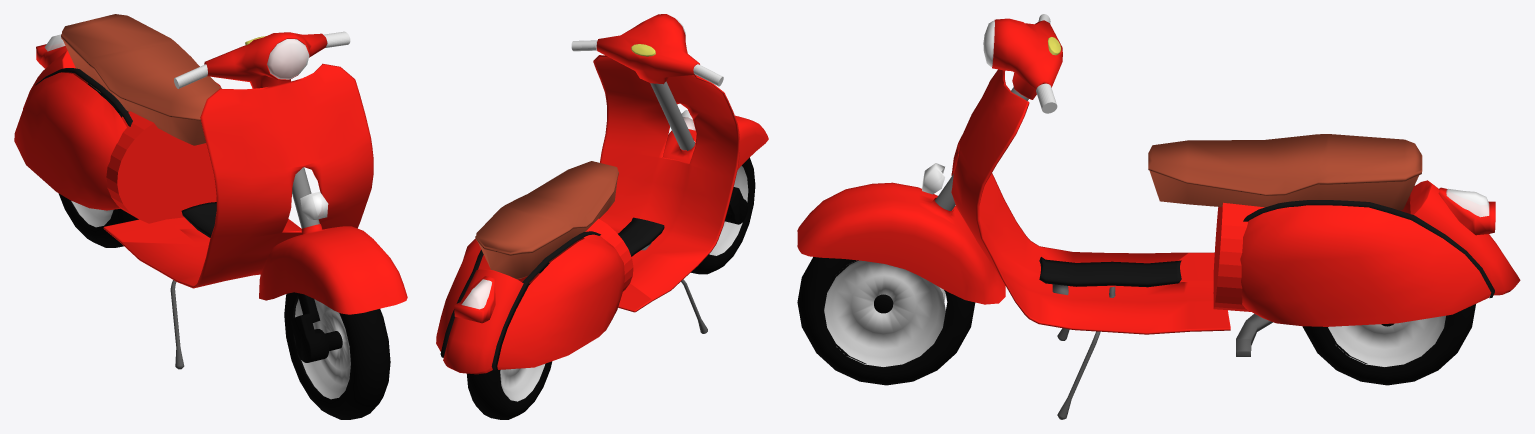
The model's file is vespa.fbx.
The picture shows the model from 3 angles, left to right: view 1: azimuth 30°, elevation 25°; view 2: azimuth 150°, elevation 25°; view 3: azimuth 270°, elevation 25°; orthographic projection. The views are drawn at different scales.
Parts seen in each view (by area): view 1: CARENAGEM_FRENTE_LOW_Plane.001, ASSENTO_LOW_Plane.001, CARENAGEM_LATERAL_LOW_Plane.001, PARALAMA_LOW_Plane.003, Cilindro.002, PNEU_TRAS_LOW_Torus.003, PAINEL_LOW_Circle.003, PNEU_FRENTE_LOW_Torus.002, CUBO_PNEU_FRENTE_LOW_Torus.001, FAROL_LOW_Circle.001, PNEU_TRAS_LOW_Torus.002, ASSOALHO_LOW_Plane.001 (+8 smaller); view 2: CARENAGEM_FRENTE_LOW_Plane.001, CARENAGEM_LATERAL_LOW_Plane.001, ASSENTO_LOW_Plane.001, PAINEL_LOW_Circle.003, CARENAGEM_TRASEIRA_LOW_Plane.001, PNEU_TRAS_LOW_Torus.002, PARALAMA_LOW_Plane.003, CARENAGEM_LATERAL_LOW_Plane.007, PNEU_TRAS_LOW_Torus.003, BENGALA_LOW_Cylinder.001, PNEU_FRENTE_LOW_Torus.001, Cilindro.002 (+8 smaller); view 3: CARENAGEM_LATERAL_LOW_Plane.007, CARENAGEM_FRENTE_LOW_Plane.001, ASSENTO_LOW_Plane.001, PARALAMA_LOW_Plane.003, PNEU_FRENTE_LOW_Torus.002, PNEU_TRAS_LOW_Torus.003, PNEU_TRAS_LOW_Torus.002, PAINEL_LOW_Circle.003, PNEU_FRENTE_LOW_Torus.001, CARENAGEM_TRASEIRA_LOW_Plane.001, ASSOALHO_LOW_Plane.001, Cilindro.002 (+5 smaller).
Part boxes in pixels (box(x1,y1,x2,y2)): CARENAGEM_FRENTE_LOW_Plane.001: box(103, 63, 373, 288); ASSENTO_LOW_Plane.001: box(61, 14, 221, 145); CARENAGEM_LATERAL_LOW_Plane.001: box(14, 72, 126, 210); PARALAMA_LOW_Plane.003: box(259, 224, 407, 314); Cilindro.002: box(106, 111, 216, 223); PNEU_TRAS_LOW_Torus.003: box(284, 292, 390, 419); PAINEL_LOW_Circle.003: box(204, 32, 327, 88); PNEU_FRENTE_LOW_Torus.002: box(295, 299, 350, 399); CUBO_PNEU_FRENTE_LOW_Torus.001: box(290, 293, 342, 362); FAROL_LOW_Circle.001: box(267, 39, 309, 79); PNEU_TRAS_LOW_Torus.002: box(58, 85, 138, 247); ASSOALHO_LOW_Plane.001: box(181, 202, 216, 237); CARENAGEM_FRENTE_LOW_Plane.001: box(593, 55, 739, 312); CARENAGEM_LATERAL_LOW_Plane.001: box(497, 235, 624, 369); ASSENTO_LOW_Plane.001: box(475, 161, 618, 279); PAINEL_LOW_Circle.003: box(596, 14, 699, 84); CARENAGEM_TRASEIRA_LOW_Plane.001: box(443, 269, 523, 374); PNEU_TRAS_LOW_Torus.002: box(467, 283, 552, 419); PARALAMA_LOW_Plane.003: box(663, 115, 768, 169); CARENAGEM_LATERAL_LOW_Plane.007: box(436, 238, 490, 351); PNEU_TRAS_LOW_Torus.003: box(691, 157, 755, 274); BENGALA_LOW_Cylinder.001: box(650, 81, 694, 150); PNEU_FRENTE_LOW_Torus.001: box(500, 364, 544, 401); Cilindro.002: box(517, 218, 633, 291); CARENAGEM_LATERAL_LOW_Plane.007: box(1240, 205, 1490, 326); CARENAGEM_FRENTE_LOW_Plane.001: box(951, 69, 1230, 334); ASSENTO_LOW_Plane.001: box(1148, 134, 1422, 210); PARALAMA_LOW_Plane.003: box(797, 182, 1005, 304); PNEU_FRENTE_LOW_Torus.002: box(824, 260, 945, 366); PNEU_TRAS_LOW_Torus.003: box(797, 257, 975, 385); PNEU_TRAS_LOW_Torus.002: box(1302, 304, 1475, 385); PAINEL_LOW_Circle.003: box(992, 18, 1062, 99); PNEU_FRENTE_LOW_Torus.001: box(1328, 315, 1445, 366); CARENAGEM_TRASEIRA_LOW_Plane.001: box(1410, 180, 1520, 295); ASSOALHO_LOW_Plane.001: box(1039, 257, 1181, 287); Cilindro.002: box(1213, 202, 1264, 311).
Bounding box in the file's own units: 1986 × 3694 × 6697.
